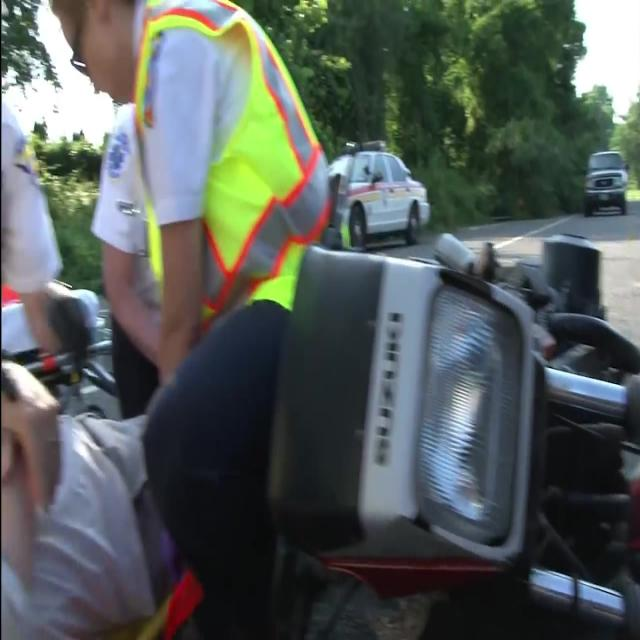Reflective-Jacket: (114, 7, 338, 354)
